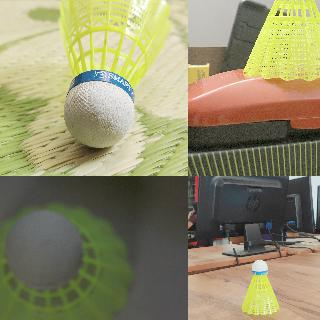shuttlecock: (57, 0, 173, 148), (0, 203, 132, 319), (243, 0, 319, 81), (241, 259, 279, 315)
